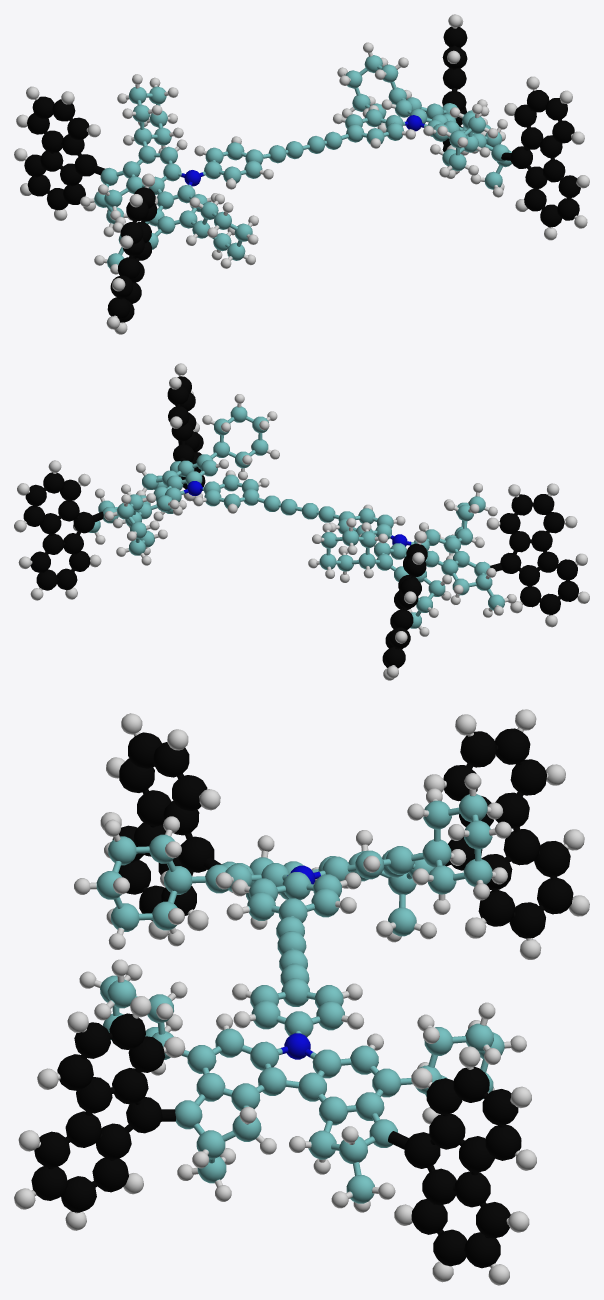
The model's file is nanocar.glb.
The picture shows the model from 3 angles, top to bottom: view 1: azimuth 30°, elevation 25°; view 2: azimuth 150°, elevation 25°; view 3: azimuth 270°, elevation 25°; orthographic projection. The views are drawn at different scales.
Parts seen in each view (by area): view 1: nanocar_chas, nanocar_rueda.003, nanocar_rueda, nanocar_rueda.001, nanocar_rueda.002; view 2: nanocar_chas, nanocar_rueda.001, nanocar_rueda.002, nanocar_rueda, nanocar_rueda.003; view 3: nanocar_chas, nanocar_rueda.002, nanocar_rueda.003, nanocar_rueda, nanocar_rueda.001.
Boxes of the visible parts, bbox=[...] form: nanocar_chas: bbox=[80, 42, 511, 274]; nanocar_rueda.003: bbox=[501, 76, 589, 240]; nanocar_rueda: bbox=[14, 86, 104, 220]; nanocar_rueda.001: bbox=[106, 173, 157, 334]; nanocar_rueda.002: bbox=[442, 14, 467, 174]; nanocar_chas: bbox=[73, 394, 516, 636]; nanocar_rueda.001: bbox=[486, 483, 589, 627]; nanocar_rueda.002: bbox=[14, 460, 103, 600]; nanocar_rueda: bbox=[382, 531, 427, 680]; nanocar_rueda.003: bbox=[167, 363, 205, 501]; nanocar_chas: bbox=[74, 773, 526, 1212]; nanocar_rueda.002: bbox=[388, 1046, 536, 1285]; nanocar_rueda.003: bbox=[14, 996, 185, 1230]; nanocar_rueda: bbox=[423, 709, 589, 959]; nanocar_rueda.001: bbox=[100, 713, 221, 939].
Bounding box in the file's own units: 17.24 × 5.81 × 11.15.
